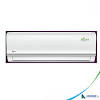ac: (5, 30, 100, 63)
